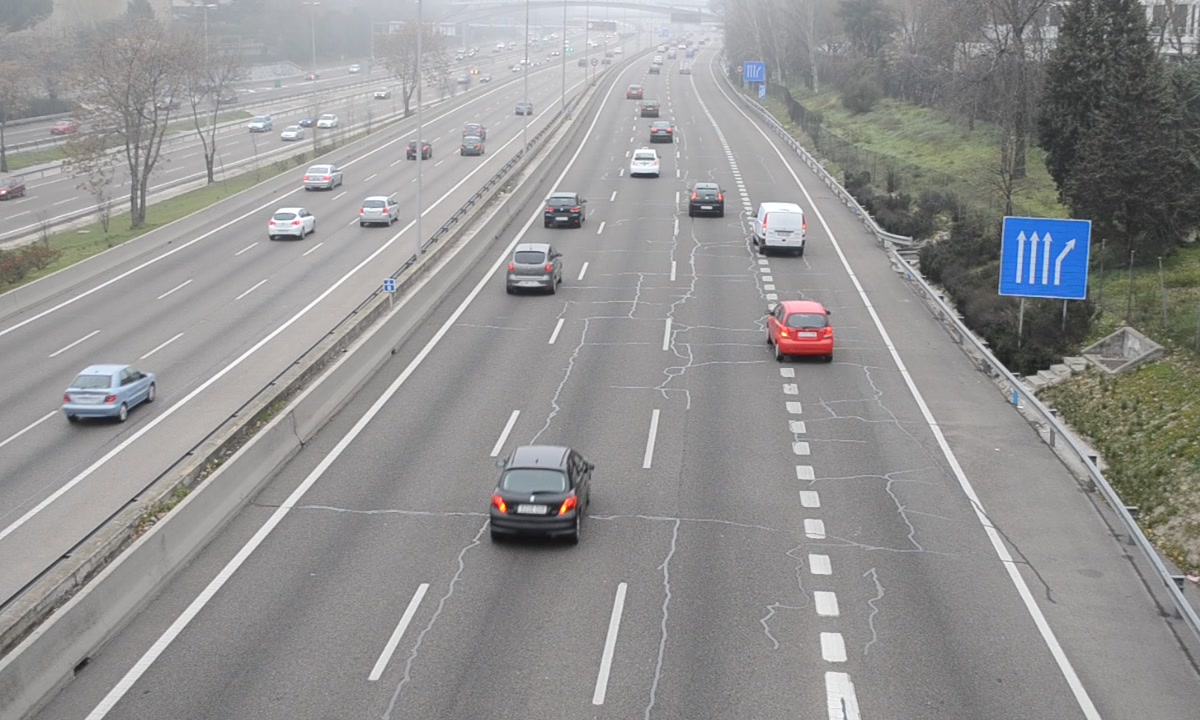car: (490, 445, 592, 539), (772, 299, 833, 356), (506, 242, 562, 292), (543, 193, 588, 230), (688, 182, 726, 217), (628, 145, 662, 176), (650, 117, 672, 143)
van: (757, 202, 805, 253)
